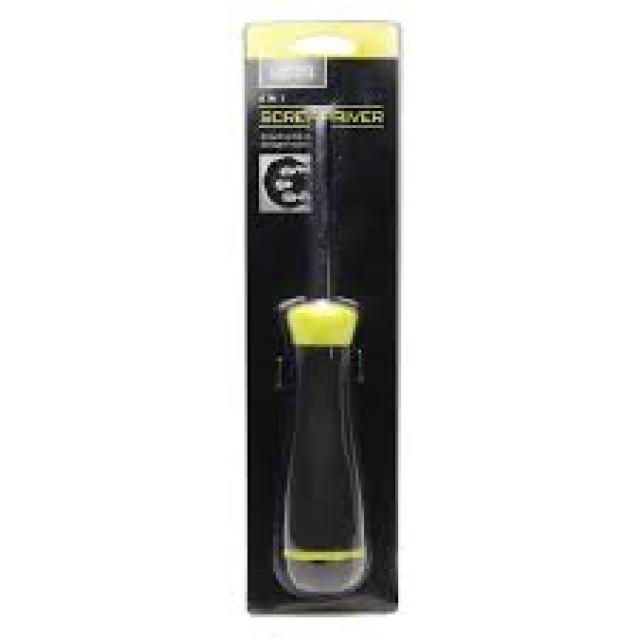screw driver: (268, 85, 385, 604)
